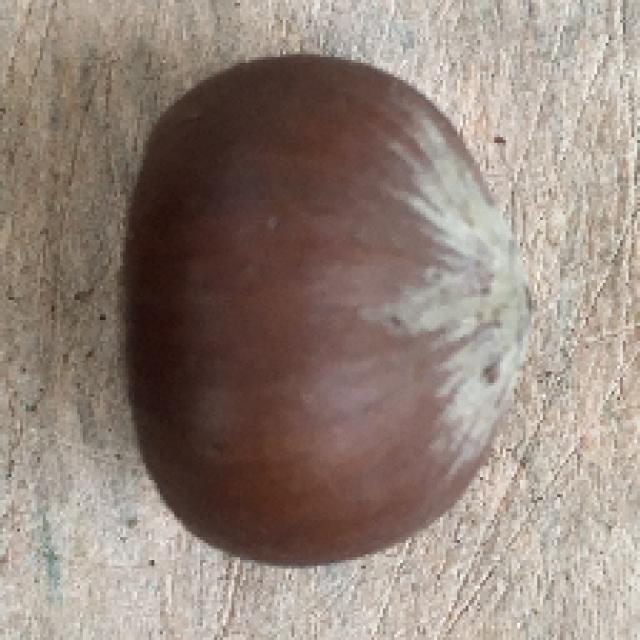qualityHazelnut: (106, 56, 538, 570)
